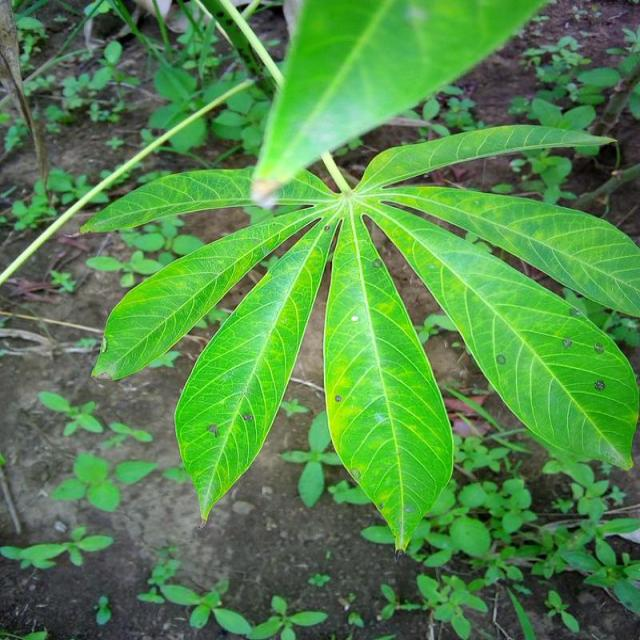cassava leaf: (82, 121, 638, 554), (371, 200, 638, 472), (248, 0, 554, 206), (172, 210, 334, 526), (322, 200, 454, 557)
